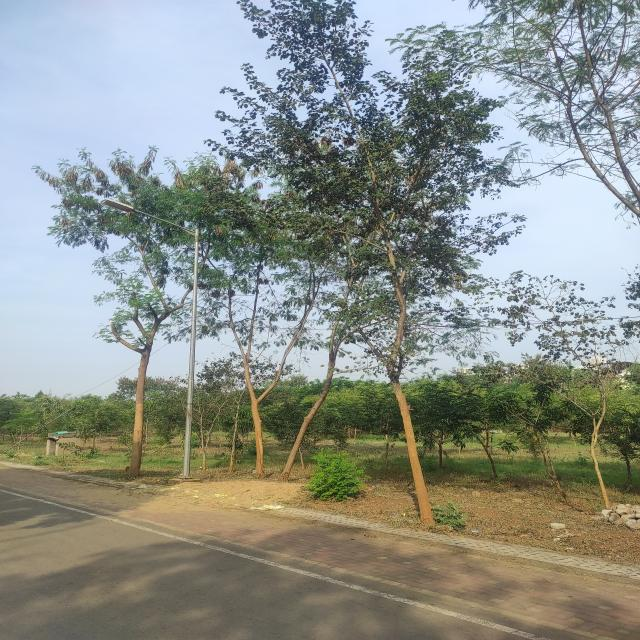Devakanchan tree: (291, 61, 458, 483)
